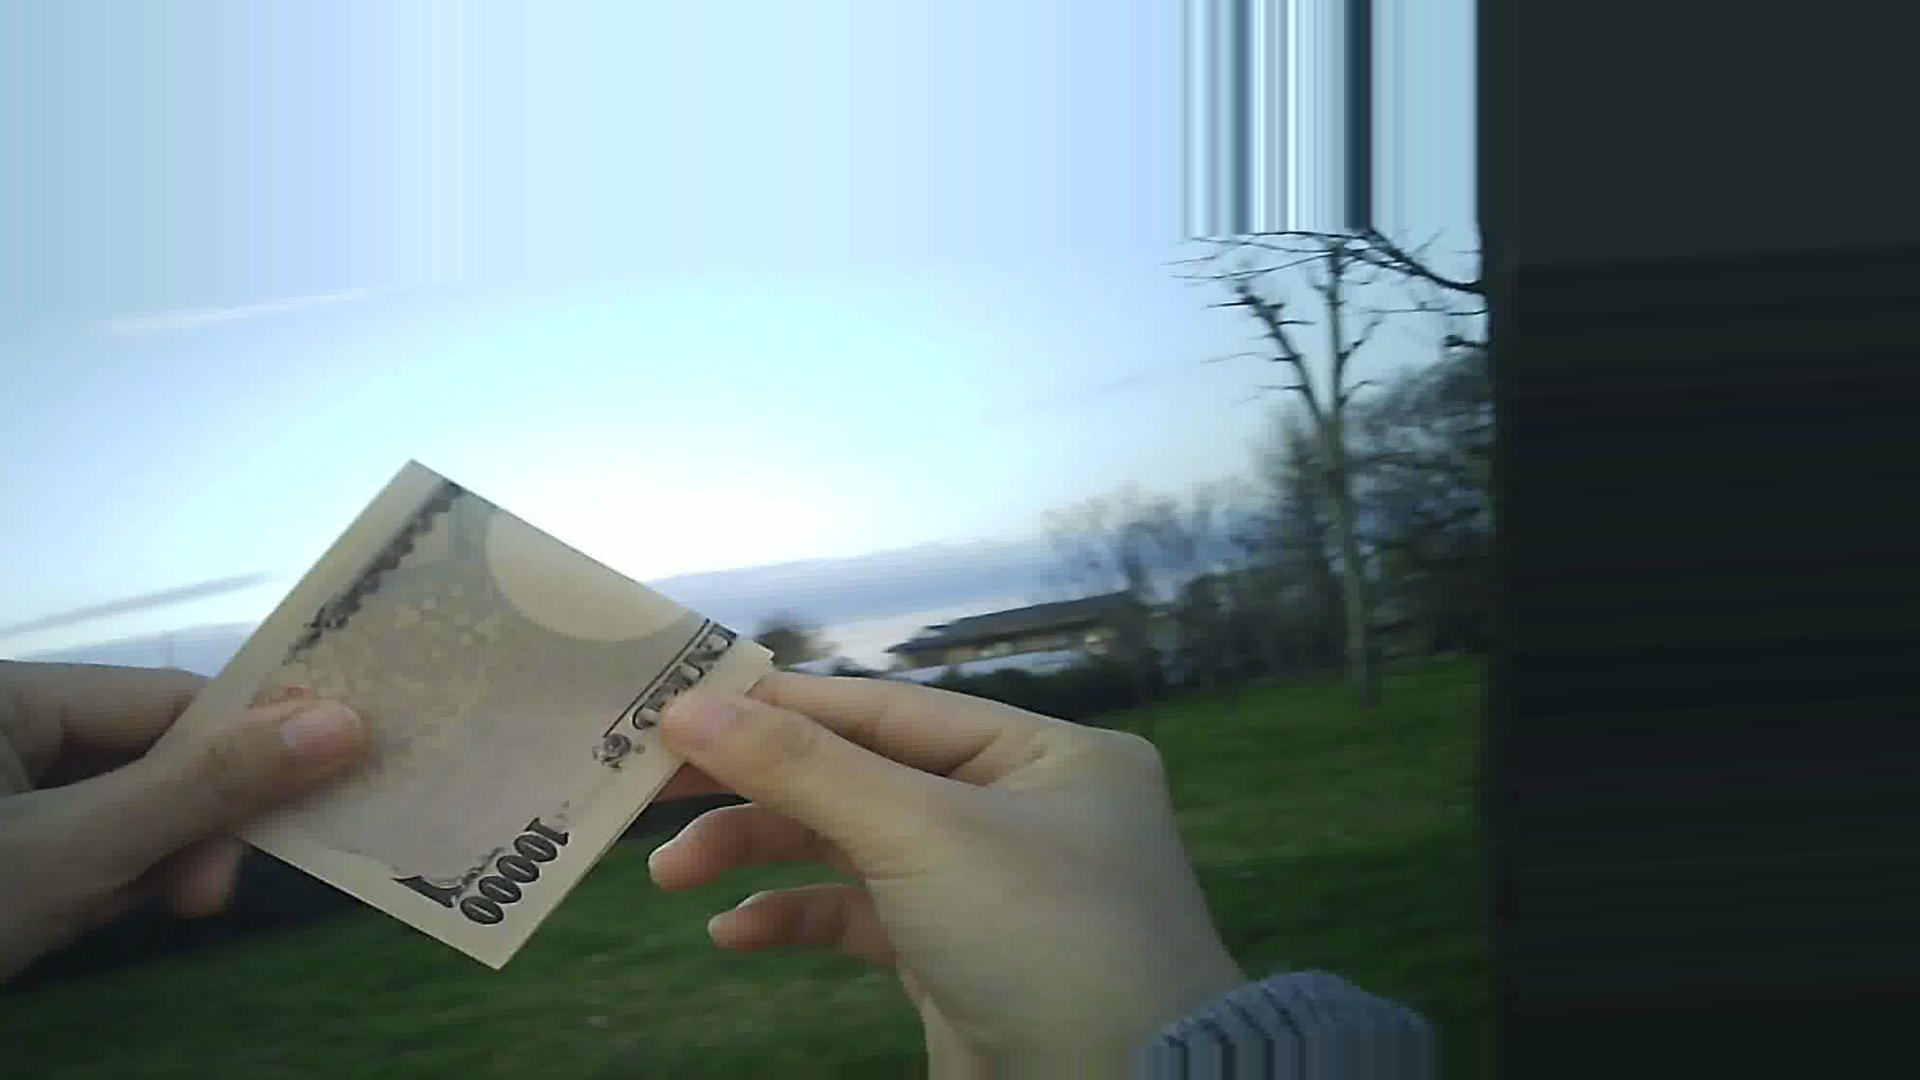10,000 Yen: (152, 487, 728, 952)
